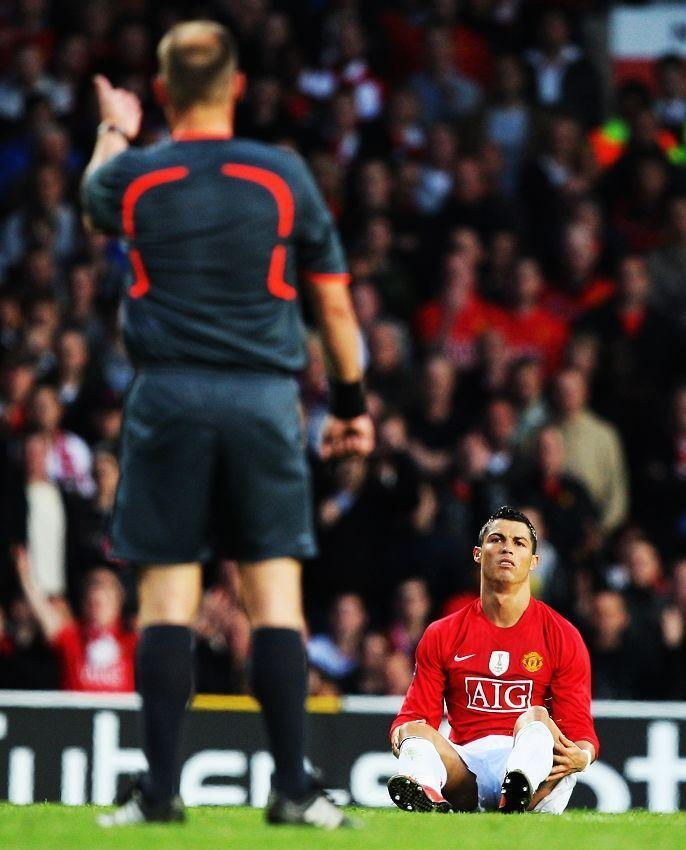Fall-Detected: (364, 485, 618, 832)
